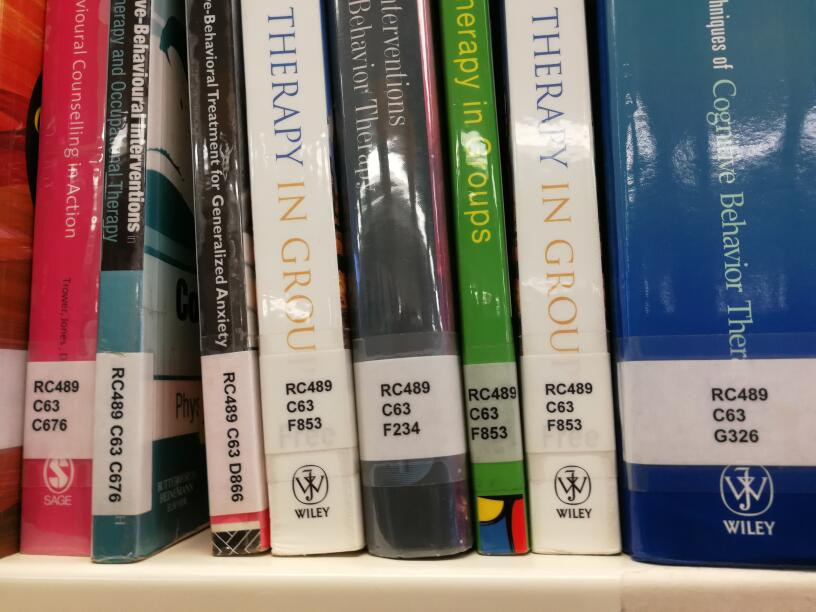booklabel: (710, 385, 771, 444), (221, 370, 247, 504), (377, 378, 433, 439), (29, 377, 81, 434), (466, 385, 518, 442), (282, 376, 334, 432), (107, 367, 126, 503), (544, 381, 593, 432)
